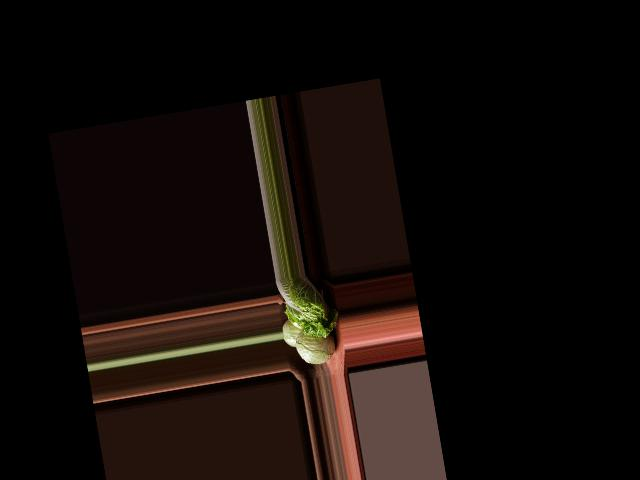lettuce: (277, 271, 342, 343)
